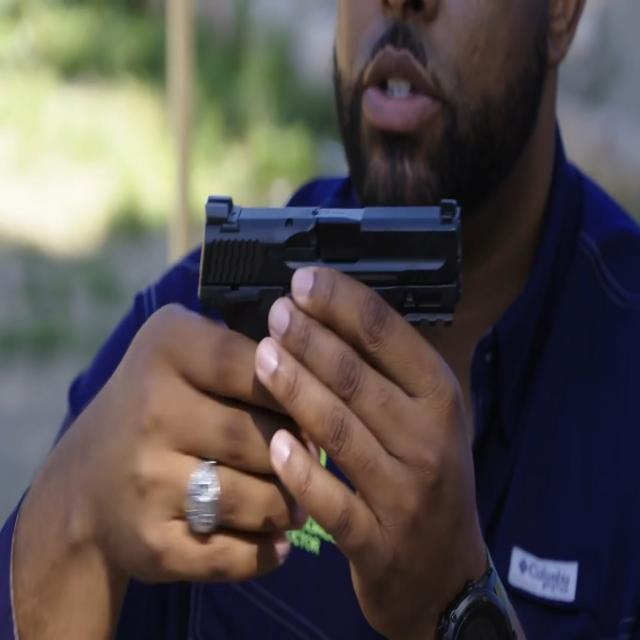handgun: (184, 157, 503, 468)
